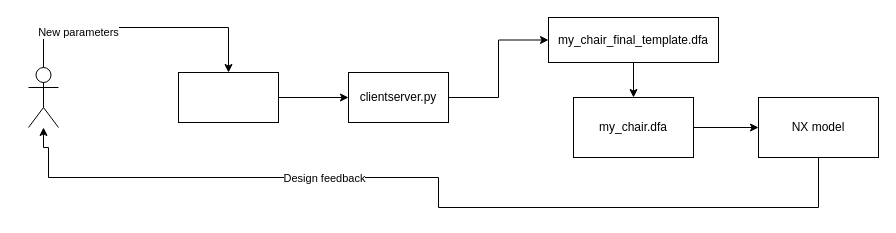
Image size: 896x233. Some labels were removed from this diagram. The centre of each missing label's shape, as x and y in pixels:
Customer: the point at 43,97
HTML-page/web-server: the point at 228,97
